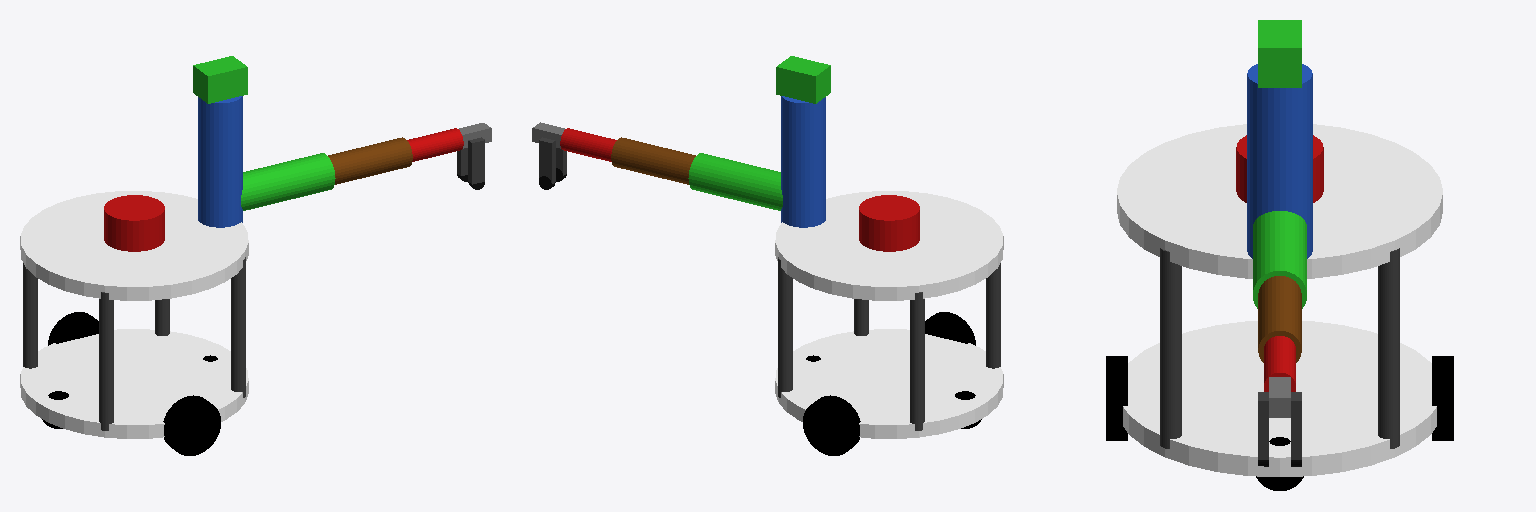
URDF robot description (piklet_container_bot):
<?xml version="1.0" ?>
<!-- =================================================================================== -->
<!-- |    This document was autogenerated by xacro from [local-path]/piklet/piklet_ws/install/piklet_description/share/piklet_description/urdf/piklet_robot.urdf.xacro | -->
<!-- |    EDITING THIS FILE BY HAND IS NOT RECOMMENDED                                 | -->
<!-- =================================================================================== -->
<robot name="piklet_container_bot" xmlns:gazebo="http://gazebosim.org/" xmlns:ros="http://www.ros.org/wiki/ros">
  <material name="gray">
    <color rgba="0.6 0.6 0.6 1"/>
  </material>
  <material name="blue">
    <color rgba="0.2 0.4 0.8 1"/>
  </material>
  <material name="black">
    <color rgba="0 0 0 1"/>
  </material>
  <material name="darkgray">
    <color rgba="0.3 0.3 0.3 1"/>
  </material>
  <material name="red">
    <color rgba="0.8 0.1 0.1 1"/>
  </material>
  <material name="yellow">
    <color rgba="0.5 0.3 0.1 1"/>
  </material>
  <material name="green">
    <color rgba="0.2 0.8 0.2 1"/>
  </material>
  <material name="white">
    <color rgba="1 1 1 1"/>
  </material>
  <!-- front mount -->
  <link name="front_mount">
    <inertial>
      <mass value="0.3"/>
      <origin xyz="0 0 0"/>
      <inertia ixx="0.0010675" ixy="0" ixz="0" iyy="0.0010675" iyz="0" izz="0.0010675"/>
    </inertial>
    <visual>
      <geometry>
        <cylinder length="0.2" radius="0.03"/>
      </geometry>
      <origin rpy="0 0 0" xyz="0 0 0"/>
      <material name="blue"/>
    </visual>
    <collision>
      <geometry>
        <cylinder length="0.2" radius="0.03"/>
      </geometry>
      <origin rpy="0 0 0" xyz="0 0 0"/>
    </collision>
  </link>
  <joint name="front_mount_joint" type="fixed">
    <parent link="base_top"/>
    <child link="front_mount"/>
    <origin rpy="0 0 0" xyz="0.13 0 0.09"/>
  </joint>
  <!-- Bottom plate -->
  <link name="base_link">
    <inertial>
      <mass value="5"/>
      <origin xyz="0 0 0"/>
      <inertia ixx="0.02829166666666666" ixy="0" ixz="0" iyy="0.02829166666666666" iyz="0" izz="0.02829166666666666"/>
    </inertial>
    <visual>
      <origin rpy="0 0 0" xyz="0 0 0"/>
      <geometry>
        <cylinder length="0.02" radius="0.15"/>
      </geometry>
      <material name="white"/>
    </visual>
    <collision>
      <origin rpy="0 0 0" xyz="0 0 0"/>
      <geometry>
        <cylinder length="0.02" radius="0.15"/>
      </geometry>
    </collision>
  </link>
  <!-- Top plate -->
  <link name="base_top">
    <inertial>
      <mass value="5"/>
      <origin xyz="0 0 0"/>
      <inertia ixx="0.02829166666666666" ixy="0" ixz="0" iyy="0.02829166666666666" iyz="0" izz="0.02829166666666666"/>
    </inertial>
    <visual>
      <origin rpy="0 0 0" xyz="0 0 0"/>
      <geometry>
        <cylinder length="0.02" radius="0.15"/>
      </geometry>
      <material name="white"/>
    </visual>
    <collision>
      <origin rpy="0 0 0" xyz="0 0 0"/>
      <geometry>
        <cylinder length="0.02" radius="0.15"/>
      </geometry>
    </collision>
  </link>
  <joint name="base_top_joint" type="fixed">
    <origin xyz="0 0 0.2"/>
    <parent link="base_link"/>
    <child link="base_top"/>
  </joint>
  <link name="pole_fl">
    <visual>
      <geometry>
        <cylinder length="0.2" radius="0.01"/>
      </geometry>
      <material name="darkgray"/>
    </visual>
  </link>
  <joint name="pole_fl_joint" type="fixed">
    <origin rpy="0 0 0" xyz="0.1 0.1 0.1"/>
    <parent link="base_link"/>
    <child link="pole_fl"/>
  </joint>
  <link name="pole_fr">
    <visual>
      <geometry>
        <cylinder length="0.2" radius="0.01"/>
      </geometry>
      <material name="darkgray"/>
    </visual>
  </link>
  <joint name="pole_fr_joint" type="fixed">
    <origin rpy="0 0 0" xyz="0.1 -0.1 0.1"/>
    <parent link="base_link"/>
    <child link="pole_fr"/>
  </joint>
  <link name="pole_bl">
    <visual>
      <geometry>
        <cylinder length="0.2" radius="0.01"/>
      </geometry>
      <material name="darkgray"/>
    </visual>
  </link>
  <joint name="pole_bl_joint" type="fixed">
    <origin rpy="0 0 0" xyz="-0.1 0.1 0.1"/>
    <parent link="base_link"/>
    <child link="pole_bl"/>
  </joint>
  <link name="pole_br">
    <visual>
      <geometry>
        <cylinder length="0.2" radius="0.01"/>
      </geometry>
      <material name="darkgray"/>
    </visual>
  </link>
  <joint name="pole_br_joint" type="fixed">
    <origin rpy="0 0 0" xyz="-0.1 -0.1 0.1"/>
    <parent link="base_link"/>
    <child link="pole_br"/>
  </joint>
  <link name="right_wheel">
    <visual>
      <origin rpy="1.5707963267948966 0 0" xyz="0 0 0"/>
      <geometry>
        <cylinder length="0.02" radius="0.039"/>
      </geometry>
      <material name="black"/>
    </visual>
    <collision>
      <origin rpy="1.5707963267948966 0 0 " xyz="0 0 0"/>
      <geometry>
        <cylinder length="0.02" radius="0.039"/>
      </geometry>
      <surface>
        <friction>
          <ode>
            <mu>1.0</mu>
            <mu2>1.0</mu2>
          </ode>
        </friction>
      </surface>
    </collision>
    <inertial>
      <mass value="2.5"/>
      <origin xyz="0 0 0"/>
      <inertia ixx="0.001" ixy="0.0" ixz="0.0" iyy="0.001" iyz="0.0" izz="0.001"/>
    </inertial>
  </link>
  <joint name="right_wheel_joint" type="continuous">
    <parent link="base_link"/>
    <child link="right_wheel"/>
    <origin rpy="0 0 0" xyz="0 -0.15 0"/>
    <axis rpy="0 0 0" xyz="0 1 0"/>
    <limit effort="100" velocity="100"/>
    <dynamics damping="0.5" friction="0.2"/>
  </joint>
  <link name="left_wheel">
    <visual>
      <origin rpy="1.5707963267948966 0 0" xyz="0 0 0"/>
      <geometry>
        <cylinder length="0.02" radius="0.039"/>
      </geometry>
      <material name="black"/>
    </visual>
    <collision>
      <origin rpy="1.5707963267948966 0 0 " xyz="0 0 0"/>
      <geometry>
        <cylinder length="0.02" radius="0.039"/>
      </geometry>
      <surface>
        <friction>
          <ode>
            <mu>1.0</mu>
            <mu2>1.0</mu2>
          </ode>
        </friction>
      </surface>
    </collision>
    <inertial>
      <mass value="2.5"/>
      <origin xyz="0 0 0"/>
      <inertia ixx="0.001" ixy="0.0" ixz="0.0" iyy="0.001" iyz="0.0" izz="0.001"/>
    </inertial>
  </link>
  <joint name="left_wheel_joint" type="continuous">
    <parent link="base_link"/>
    <child link="left_wheel"/>
    <origin rpy="0 0 0" xyz="0 0.15 0"/>
    <axis rpy="0 0 0" xyz="0 1 0"/>
    <limit effort="100" velocity="100"/>
    <dynamics damping="0.5" friction="0.2"/>
  </joint>
  <joint name="passive_wheel_front_joint" type="fixed">
    <parent link="base_link"/>
    <child link="passive_wheel_front_link"/>
    <origin rpy="-1.5707963267948966 0 0" xyz="0.115 0.0 0.007"/>
  </joint>
  <link name="passive_wheel_front_link">
    <visual>
      <origin rpy="1.5707963267948966 0 0" xyz="0 0.02 0"/>
      <geometry>
        <sphere radius="0.025"/>
      </geometry>
      <material name="black"/>
    </visual>
    <collision>
      <geometry>
        <sphere radius="0.025"/>
      </geometry>
      <origin rpy="1.5707963267948966 0 0" xyz="0 0.02 0"/>
    </collision>
    <inertial>
      <mass value="0.5"/>
      <origin xyz="0 0 0"/>
      <inertia ixx="0.001" ixy="0.0" ixz="0.0" iyy="0.001" iyz="0.0" izz="0.001"/>
    </inertial>
  </link>
  <joint name="passive_wheel_back_joint" type="fixed">
    <parent link="base_link"/>
    <child link="passive_wheel_back_link"/>
    <origin rpy="-1.5707963267948966 0 0" xyz="-0.135 0.0 0.009"/>
  </joint>
  <link name="passive_wheel_back_link">
    <visual>
      <origin rpy="1.5707963267948966 0 0" xyz="0.02 0.02 0 "/>
      <geometry>
        <sphere radius="0.025"/>
      </geometry>
      <material name="black"/>
    </visual>
    <collision>
      <geometry>
        <sphere radius="0.025"/>
      </geometry>
      <origin rpy="1.5707963267948966 0 0" xyz="0 0.02 0"/>
    </collision>
    <inertial>
      <mass value="0.5"/>
      <origin xyz="0 0 0"/>
      <inertia ixx="0.001" ixy="0.0" ixz="0.0" iyy="0.001" iyz="0.0" izz="0.001"/>
    </inertial>
  </link>
  <link name="shoulder_yaw_link">
    <inertial>
      <mass value="1e-6"/>
      <inertia ixx="1e-9" ixy="0" ixz="0" iyy="1e-9" iyz="0" izz="1e-9"/>
    </inertial>
  </link>
  <joint name="shoulder_yaw" type="revolute">
    <parent link="front_mount"/>
    <child link="shoulder_yaw_link"/>
    <origin rpy="0 0 0" xyz="0 0 -0.05"/>
    <axis xyz="0 0 1"/>
    <limit effort="5" lower="-1.57" upper="1.57" velocity="1"/>
  </joint>
  <link name="shoulder_pitch_link">
    <inertial>
      <mass value="1e-6"/>
      <inertia ixx="1e-9" ixy="0" ixz="0" iyy="1e-9" iyz="0" izz="1e-9"/>
    </inertial>
  </link>
  <joint name="shoulder_pitch" type="revolute">
    <parent link="shoulder_yaw_link"/>
    <child link="shoulder_pitch_link"/>
    <origin rpy="0 0 0" xyz="0 0 0"/>
    <axis xyz="0 1 0"/>
    <limit effort="5" lower="-1.57" upper="1.57" velocity="1"/>
  </joint>
  <link name="shoulder_roll_link">
    <inertial>
      <mass value="1e-6"/>
      <inertia ixx="1e-9" ixy="0" ixz="0" iyy="1e-9" iyz="0" izz="1e-9"/>
    </inertial>
  </link>
  <joint name="shoulder_roll" type="revolute">
    <parent link="shoulder_pitch_link"/>
    <child link="shoulder_roll_link"/>
    <origin rpy="0 0 0" xyz="0 0 0"/>
    <axis xyz="1 0 0"/>
    <limit effort="5" lower="-1.57" upper="1.57" velocity="1"/>
  </joint>
  <link name="arm_link1">
    <inertial>
      <mass value="0.4"/>
      <inertia ixx="5.06e-4" ixy="0" ixz="0" iyy="5.06e-4" iyz="0" izz="1.25e-4"/>
    </inertial>
    <visual>
      <geometry>
        <cylinder length="0.16" radius="0.025"/>
      </geometry>
      <origin rpy="0 1.5707963267948966 0" xyz="0.08 0 0"/>
      <material name="green"/>
    </visual>
    <collision>
      <geometry>
        <cylinder length="0.16" radius="0.025"/>
      </geometry>
      <origin rpy="0 1.5707963267948966 0" xyz="0.08 0 0"/>
    </collision>
  </link>
  <joint name="arm_link1_joint" type="fixed">
    <parent link="shoulder_roll_link"/>
    <child link="arm_link1"/>
    <origin rpy="0 0 0" xyz="0 0 0"/>
  </joint>
  <link name="arm_link2">
    <inertial>
      <mass value="0.25"/>
      <inertia ixx="5e-4" ixy="0" ixz="0" iyy="5e-4" iyz="0" izz="2e-4"/>
    </inertial>
    <visual>
      <geometry>
        <cylinder length="0.12" radius="0.02"/>
      </geometry>
      <origin rpy="0 1.5707963267948966 0" xyz="0.06 0 0"/>
      <material name="yellow"/>
    </visual>
    <collision>
      <geometry>
        <cylinder length="0.12" radius="0.02"/>
      </geometry>
      <origin rpy="0 1.5707963267948966 0" xyz="0.06 0 0"/>
    </collision>
  </link>
  <joint name="elbow_joint" type="revolute">
    <parent link="arm_link1"/>
    <child link="arm_link2"/>
    <origin rpy="0 0 0" xyz="0.16 0 0"/>
    <axis xyz="0 1 0"/>
    <limit effort="5" lower="-1.57" upper="1.57" velocity="1"/>
  </joint>
  <link name="arm_link_end">
    <inertial>
      <mass value="0.15"/>
      <inertia ixx="2e-4" ixy="0" ixz="0" iyy="2e-4" iyz="0" izz="1e-4"/>
    </inertial>
    <visual>
      <geometry>
        <cylinder length="0.08" radius="0.015"/>
      </geometry>
      <origin rpy="0 1.5707963267948966 0" xyz="0.04 0 0"/>
      <material name="red"/>
    </visual>
    <collision>
      <geometry>
        <cylinder length="0.08" radius="0.015"/>
      </geometry>
      <origin rpy="0 1.5707963267948966 0" xyz="0.04 0 0"/>
    </collision>
  </link>
  <joint name="wrist_joint" type="revolute">
    <parent link="arm_link2"/>
    <child link="arm_link_end"/>
    <origin rpy="0 0 0" xyz="0.12 0 0"/>
    <axis xyz="0 1 0"/>
    <limit effort="5" lower="-1.57" upper="1.57" velocity="1"/>
  </joint>
  <!-- Base link for the gripper -->
  <link name="gripper_base">
    <visual>
      <geometry>
        <box size="0.05 0.02 0.02"/>
        <!-- small gripper base block -->
      </geometry>
      <material name="gray">
        <color rgba="0.5 0.5 0.5 1"/>
      </material>
    </visual>
    <collision>
      <geometry>
        <box size="0.05 0.02 0.02"/>
      </geometry>
    </collision>
    <inertial>
      <mass value="0.1"/>
      <origin xyz="0 0 0"/>
      <inertia ixx="1e-4" ixy="0" ixz="0" iyy="1e-4" iyz="0" izz="1e-4"/>
    </inertial>
  </link>
  <!-- Attach base to parent arm link -->
  <joint name="gripper_mount_joint" type="fixed">
    <parent link="arm_link_end"/>
    <child link="gripper_base"/>
    <origin rpy="3.14 0 0" xyz="0.1 0 0"/>
  </joint>
  <!-- Left finger -->
  <link name="gripper_left_finger">
    <visual>
      <geometry>
        <box size="0.02 0.01 0.06"/>
      </geometry>
      <origin rpy="0 0 0" xyz="0 0 0.03"/>
      <material name="dark_gray">
        <color rgba="0.3 0.3 0.3 1"/>
      </material>
    </visual>
    <collision>
      <geometry>
        <box size="0.02 0.01 0.06"/>
      </geometry>
      <origin rpy="0 0 0" xyz="0 0 0.03"/>
    </collision>
    <inertial>
      <mass value="0.05"/>
      <origin xyz="0 0 0.03"/>
      <inertia ixx="5e-5" ixy="0" ixz="0" iyy="5e-5" iyz="0" izz="5e-5"/>
    </inertial>
  </link>
  <!-- Concave tip (approximated with a small cylinder) -->
  <link name="gripper_left_tip">
    <visual>
      <geometry>
        <cylinder length="0.01" radius="0.01"/>
      </geometry>
      <origin rpy="1.57 0 0" xyz="0 0 0.06"/>
      <!-- rotate so it's a "cup" -->
      <material name="rubber">
        <color rgba="0.1 0.1 0.1 1"/>
      </material>
    </visual>
    <collision>
      <geometry>
        <cylinder length="0.01" radius="0.01"/>
      </geometry>
      <origin rpy="1.57 0 0" xyz="0 0 0.06"/>
    </collision>
    <inertial>
      <mass value="0.01"/>
      <origin xyz="0 0 0.06"/>
      <inertia ixx="1e-5" ixy="0" ixz="0" iyy="1e-5" iyz="0" izz="1e-5"/>
    </inertial>
  </link>
  <joint name="gripper_left_joint" type="prismatic">
    <parent link="gripper_base"/>
    <child link="gripper_left_finger"/>
    <origin rpy="0 0 0" xyz="0 0.015 0"/>
    <axis xyz="0 -1 0"/>
    <limit effort="10" lower="0.0" upper="0.04" velocity="0.02"/>
  </joint>
  <joint name="gripper_left_tip_joint" type="fixed">
    <parent link="gripper_left_finger"/>
    <child link="gripper_left_tip"/>
    <origin xyz="0 0 0"/>
  </joint>
  <!-- Right finger -->
  <link name="gripper_right_finger">
    <visual>
      <geometry>
        <box size="0.02 0.01 0.06"/>
      </geometry>
      <origin xyz="0 0 0.03"/>
      <material name="dark_gray"/>
    </visual>
    <collision>
      <geometry>
        <box size="0.02 0.01 0.06"/>
      </geometry>
      <origin xyz="0 0 0.03"/>
    </collision>
    <inertial>
      <mass value="0.05"/>
      <origin xyz="0 0 0.03"/>
      <inertia ixx="5e-5" ixy="0" ixz="0" iyy="5e-5" iyz="0" izz="5e-5"/>
    </inertial>
  </link>
  <link name="gripper_right_tip">
    <visual>
      <geometry>
        <cylinder length="0.01" radius="0.01"/>
      </geometry>
      <origin rpy="1.57 0 0" xyz="0 0 0.06"/>
      <material name="rubber"/>
    </visual>
    <collision>
      <geometry>
        <cylinder length="0.01" radius="0.01"/>
      </geometry>
      <origin rpy="1.57 0 0" xyz="0 0 0.06"/>
    </collision>
    <inertial>
      <mass value="0.01"/>
      <origin xyz="0 0 0.06"/>
      <inertia ixx="1e-5" ixy="0" ixz="0" iyy="1e-5" iyz="0" izz="1e-5"/>
    </inertial>
  </link>
  <joint name="gripper_right_joint" type="prismatic">
    <parent link="gripper_base"/>
    <child link="gripper_right_finger"/>
    <origin rpy="0 0 0" xyz="0 -0.015 0"/>
    <axis xyz="0 1 0"/>
    <limit effort="10" lower="0.0" upper="0.04" velocity="0.02"/>
    <!-- Mimic left finger for symmetry -->
    <mimic joint="gripper_left_joint" multiplier="1" offset="0"/>
  </joint>
  <joint name="gripper_right_tip_joint" type="fixed">
    <parent link="gripper_right_finger"/>
    <child link="gripper_right_tip"/>
  </joint>
  <!-- Define TCP (tool center point) -->
  <link name="gripper_tool"/>
  <joint name="gripper_tool_joint" type="fixed">
    <parent link="gripper_base"/>
    <child link="gripper_tool"/>
    <origin rpy="0 0 0" xyz="0.1 0 0"/>
  </joint>
  <link name="lidar_link">
    <visual>
      <geometry>
        <cylinder length="0.05" radius="0.04"/>
      </geometry>
      <origin xyz="0 0 0"/>
      <material name="red"/>
    </visual>
    <collision>
      <origin rpy="0 0 0" xyz="0 0 0"/>
      <geometry>
        <cylinder length="0.05" radius="0.04"/>
      </geometry>
    </collision>
  </link>
  <joint name="lidar_joint" type="fixed">
    <origin xyz="0 0 0.030"/>
    <parent link="base_top"/>
    <child link="lidar_link"/>
  </joint>
  <link name="depth_camera_link">
    <visual>
      <geometry>
        <box size="0.06 0.04 0.04"/>
      </geometry>
      <material name="green"/>
    </visual>
    <collision>
      <origin rpy="0 0 0" xyz="0 0 0"/>
      <geometry>
        <box size="0.06 0.04 0.04"/>
      </geometry>
    </collision>
  </link>
  <joint name="depth_camera_mount" type="fixed">
    <parent link="front_mount"/>
    <child link="depth_camera_link"/>
    <origin xyz="0 0 0.12"/>
  </joint>
  <gazebo>
    <plugin filename="gz-sim-diff-drive-system" name="gz::sim::systems::DiffDrive">
      <!-- wheels -->
      <left_joint>left_wheel_joint</left_joint>
      <right_joint>right_wheel_joint</right_joint>
      <!-- physics -->
      <wheel_separation>0.34</wheel_separation>
      <wheel_radius>0.05</wheel_radius>
      <max_wheel_torque>10.0</max_wheel_torque>
      <max_wheel_acceleration>5.0</max_wheel_acceleration>
      <!-- odom frame -->
      <odom_frame>odom</odom_frame>
      <base_frame>base_link</base_frame>
      <publish_odom>true</publish_odom>
      <!-- topic interface -->
      <topic>cmd_vel</topic>
      <!-- stop wheels if no command received -->
      <command_timeout>0.5</command_timeout>
      <!-- seconds -->
    </plugin>
    <plugin filename="gz-sim-joint-state-publisher-system" name="gz::sim::systems::JointStatePublisher">
      <topic>joint_states</topic>
      <joint_name>right_wheel_joint</joint_name>
      <joint_name>left_wheel_joint</joint_name>
    </plugin>
  </gazebo>
  <!--xacro:lidar_plugin parent="lidar_link"/-->
  <!--xacro:depth_camera_plugin parent="depth_camera_link"/-->
</robot>

--- Facts derived from the render (not from the file) ---
3 views of the same robot in one strip: view 1: azimuth 30°, elevation 25°; view 2: azimuth 150°, elevation 25°; view 3: azimuth 270°, elevation 25° (orthographic).
Robot: piklet_container_bot — 25 links, 24 joints (5 revolute, 2 continuous, 2 prismatic, 15 fixed); root link base_link; default pose: all joints at 0.
Visible links, largest first — view 1: base_top, base_link, front_mount, arm_link1, lidar_link, right_wheel, arm_link2, depth_camera_link, pole_br, pole_fr, pole_bl, arm_link_end (+3 smaller); view 2: base_top, base_link, front_mount, arm_link1, lidar_link, left_wheel, arm_link2, depth_camera_link, pole_bl, pole_fl, pole_br, arm_link_end (+3 smaller); view 3: base_link, base_top, front_mount, pole_fl, pole_fr, arm_link1, depth_camera_link, arm_link2, right_wheel, left_wheel, arm_link_end, lidar_link (+4 smaller).
Boxes of the visible links, x1,y1,x2,y2 form: base_top: (20, 191, 248, 300); base_link: (20, 329, 248, 438); front_mount: (198, 96, 242, 227); arm_link1: (241, 153, 335, 210); lidar_link: (104, 195, 164, 251); right_wheel: (163, 395, 220, 455); arm_link2: (328, 137, 412, 184); depth_camera_link: (193, 56, 247, 103); pole_br: (99, 292, 113, 430); pole_fr: (231, 257, 245, 397); pole_bl: (23, 263, 37, 368); arm_link_end: (407, 128, 463, 161); base_top: (775, 191, 1003, 300); base_link: (775, 329, 1003, 438); front_mount: (781, 96, 825, 227); arm_link1: (688, 153, 782, 210); lidar_link: (859, 195, 919, 251); left_wheel: (803, 395, 860, 455); arm_link2: (611, 137, 695, 184); depth_camera_link: (776, 56, 830, 103); pole_bl: (910, 292, 924, 430); pole_fl: (778, 257, 792, 397); pole_br: (986, 263, 1000, 368); arm_link_end: (560, 128, 616, 161); base_link: (1123, 321, 1436, 476); base_top: (1117, 124, 1442, 278); front_mount: (1247, 64, 1312, 258); pole_fl: (1378, 248, 1399, 448); pole_fr: (1160, 248, 1181, 448); arm_link1: (1253, 211, 1306, 308); depth_camera_link: (1258, 20, 1301, 87); arm_link2: (1258, 276, 1301, 362); right_wheel: (1106, 356, 1127, 440); left_wheel: (1432, 356, 1453, 440); arm_link_end: (1264, 336, 1295, 391); lidar_link: (1236, 135, 1323, 202).
Size in the robot's own frame: 0.685 by 0.32 by 0.469 metres.
Geometry: primitives only (box / cylinder / sphere), no mesh files.